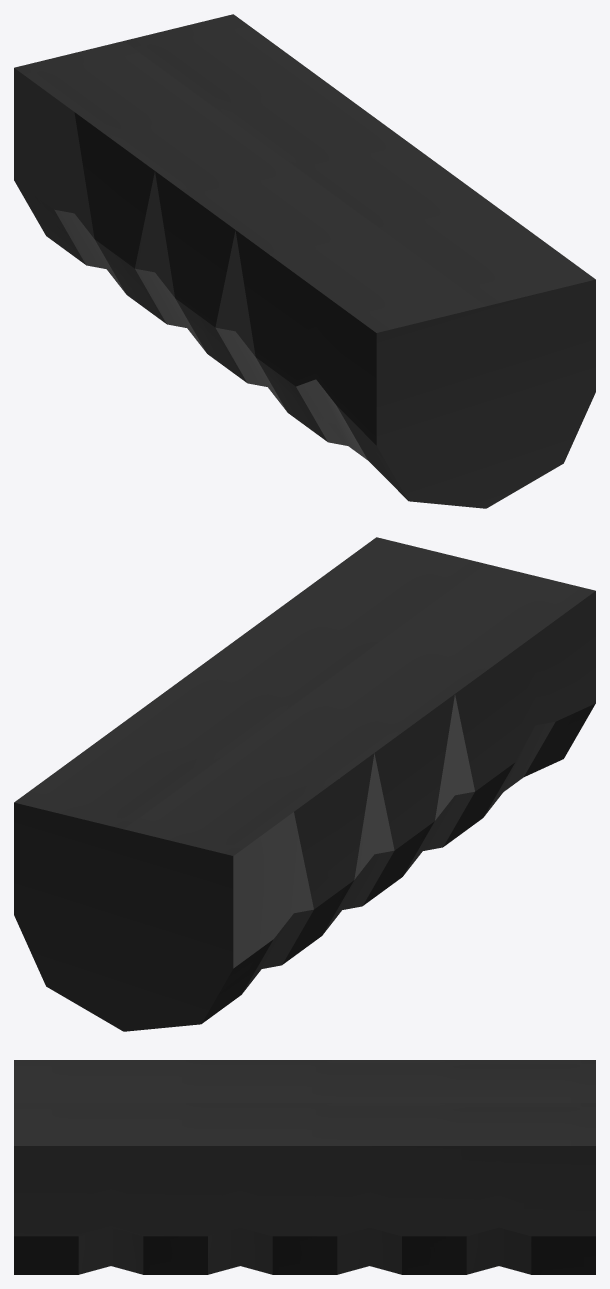
Rendered from Grip_mesh.fbx.
3 views of the same model, one above another, from view 1: azimuth 30°, elevation 25°; view 2: azimuth 150°, elevation 25°; view 3: azimuth 270°, elevation 25° (orthographic). The views are drawn at different scales.
Visible parts, largest first — view 1: Grip_mesh; view 2: Grip_mesh; view 3: Grip_mesh.
Part boxes in pixels (x1=…): Grip_mesh: x1=14, y1=14, x2=595, y2=508; Grip_mesh: x1=14, y1=537, x2=595, y2=1031; Grip_mesh: x1=14, y1=1060, x2=595, y2=1274.
Size of the model in its own units: 4.17 by 3.68 by 11.93.
